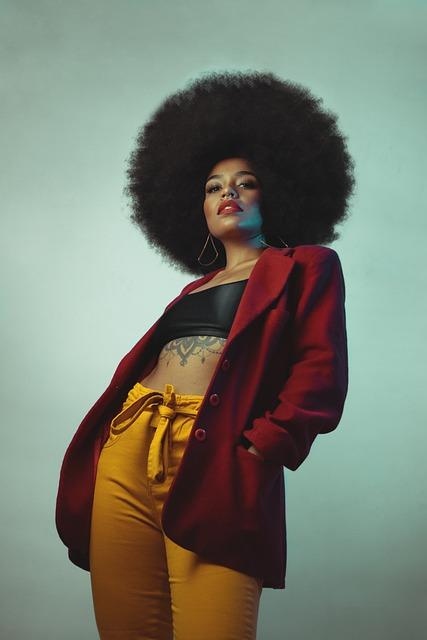Non_Gorille: (38, 35, 411, 640)
